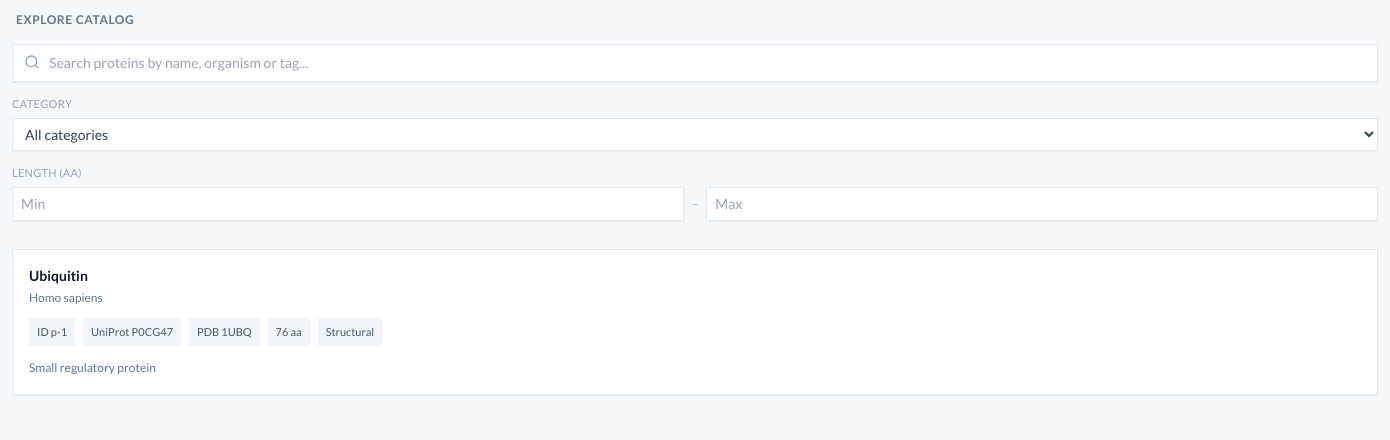
Test: CatalogSearchSection › uses filtered API results while filters are active and restores the initial list when cleared
Expected: the text "Ubiquitin" is shown, [29,267,88,284]
Type "hemo" into the field with placeholder "Search proteins by name, organism or tag..." at [695, 63], box [12,44,1378,82]
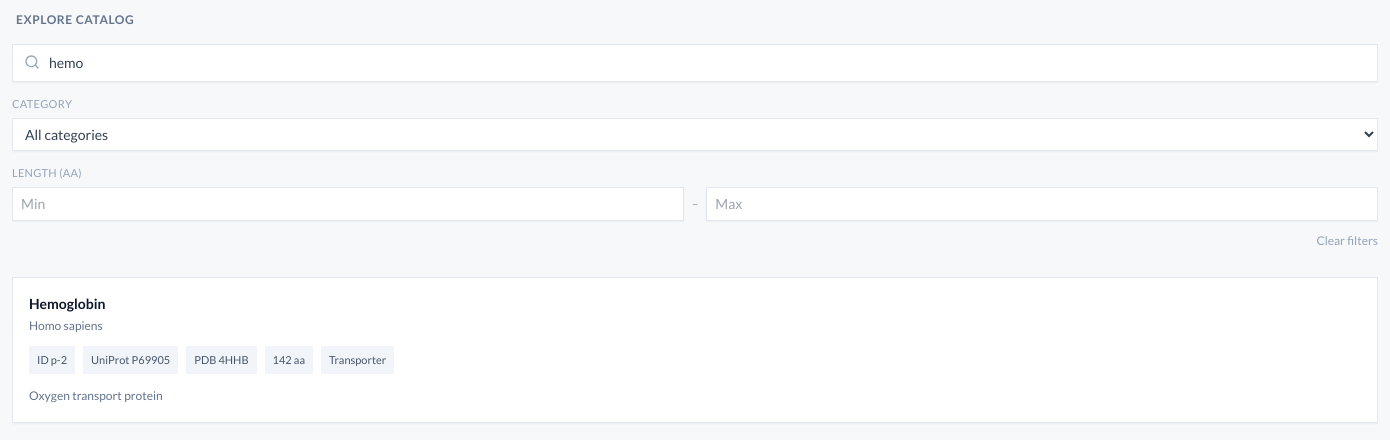
Result: the text "Hemoglobin" is shown at [29,294,106,314]
Click the button "Clear filters" at [1347, 241], box [1316,233,1378,249]
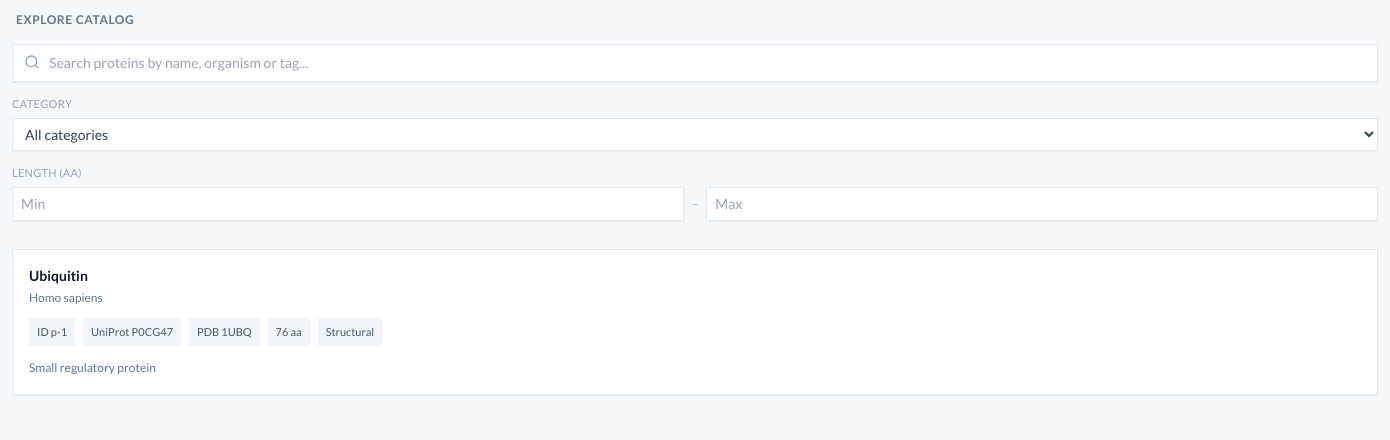
Result: the text "Ubiquitin" is shown at [29,267,88,284]
Result: the button "Hemoglobin" is gone
